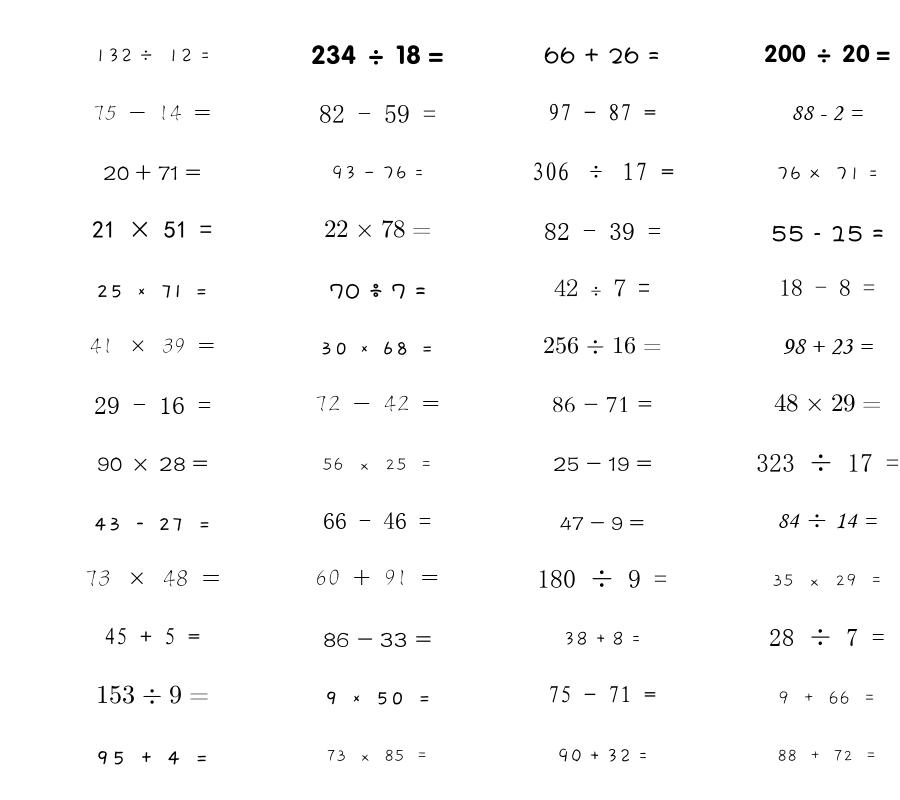MQ: (531, 162, 674, 181), (756, 453, 899, 472), (311, 45, 444, 65), (537, 569, 667, 588), (85, 569, 220, 587), (764, 44, 890, 63), (96, 685, 209, 704), (543, 336, 662, 354), (315, 395, 440, 412), (315, 569, 439, 586), (319, 105, 436, 123), (769, 628, 885, 646), (92, 221, 212, 238), (90, 338, 215, 354), (544, 223, 661, 240), (94, 397, 211, 414), (544, 47, 660, 64), (548, 103, 656, 121), (548, 685, 656, 703), (324, 220, 431, 238), (774, 394, 881, 412), (771, 225, 884, 242), (93, 105, 211, 121), (323, 512, 431, 529), (94, 48, 210, 63), (554, 279, 650, 297), (104, 627, 200, 645), (552, 396, 653, 413), (103, 164, 201, 181), (93, 517, 211, 531), (323, 632, 432, 647), (779, 279, 875, 296), (777, 513, 877, 529), (320, 341, 434, 355), (95, 751, 209, 765), (97, 457, 208, 471), (322, 457, 433, 471), (772, 573, 883, 587), (329, 283, 426, 299), (776, 166, 878, 181), (324, 691, 431, 705), (96, 285, 208, 298), (782, 339, 873, 355), (331, 165, 424, 180), (553, 457, 652, 471), (778, 691, 876, 705), (557, 748, 648, 763), (326, 749, 428, 762), (777, 749, 877, 762), (560, 516, 644, 531), (563, 631, 641, 646), (791, 106, 863, 121)
